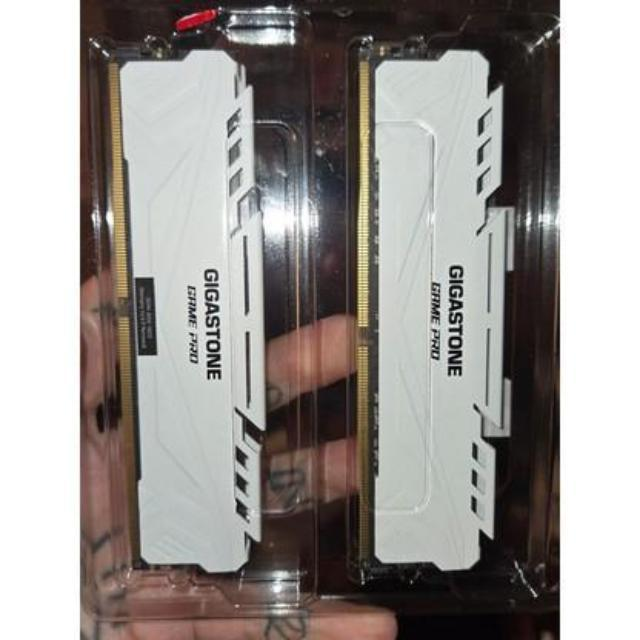RAM: (93, 41, 287, 590), (355, 32, 513, 577)
